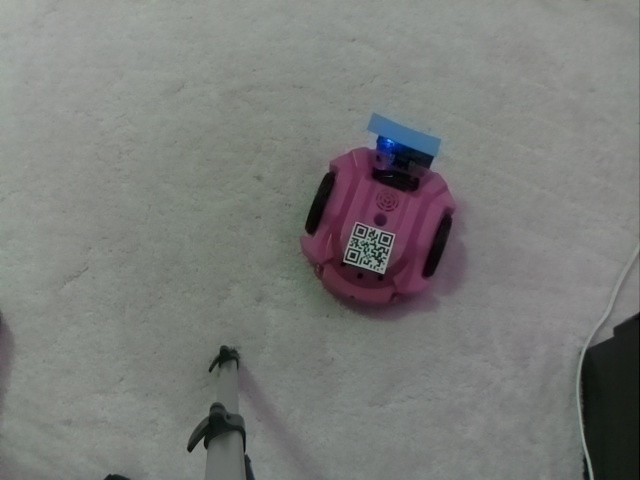chassis: (298, 111, 458, 313)
qr: (341, 218, 398, 276)
